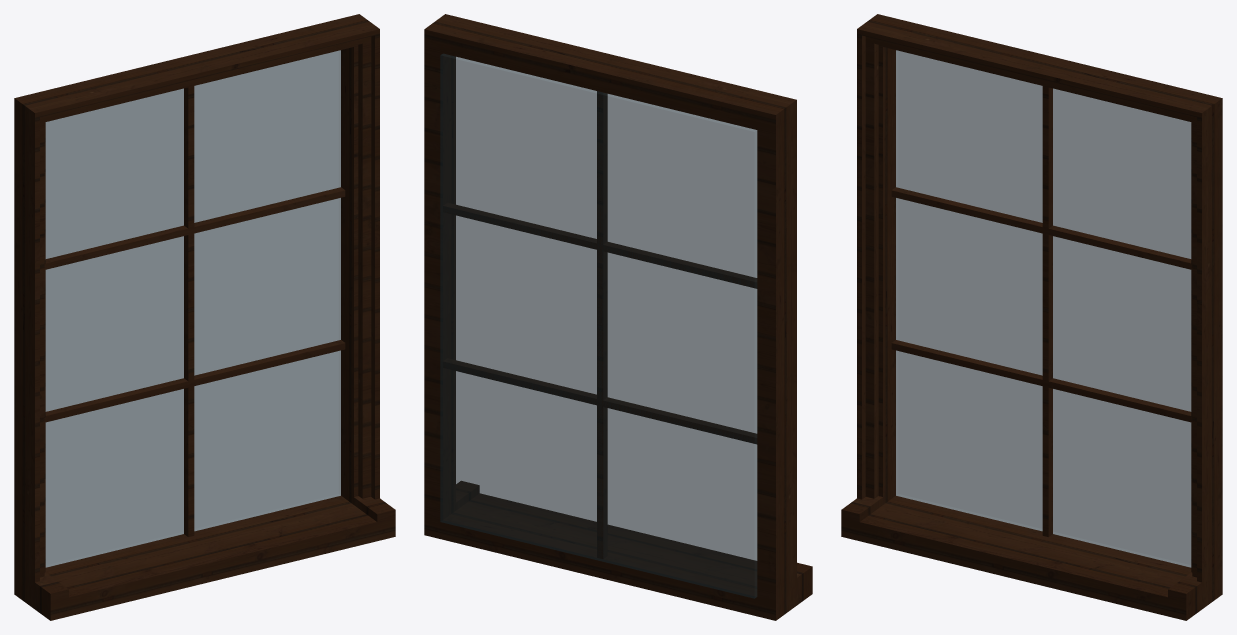
Rendered from madera_rectangle.glb.
3 views of the same model, side by side, from view 1: azimuth 30°, elevation 25°; view 2: azimuth 150°, elevation 25°; view 3: azimuth 330°, elevation 25° (orthographic).
Visible parts, largest first — view 1: window_glass#0001, window_reveal#0001, window_sill#0001, window_mullion#0001, window_profile#0020, window_profile#0001, window_profile#0010, window_profile#0009, window_profile#0017, window_profile#0019, window_profile#0018, window_profile#0011 (+6 smaller); view 2: window_glass#0001, window_reveal#0001, window_mullion#0001, window_profile#0020, window_sill#0001, window_profile#0001; view 3: window_glass#0001, window_reveal#0001, window_sill#0001, window_mullion#0001, window_profile#0020, window_profile#0001, window_profile#0010, window_profile#0009, window_profile#0017, window_profile#0019, window_profile#0018, window_profile#0011 (+6 smaller).
Part boxes in pixels (<box>): window_glass#0001: <box>45,50,340,567</box>; window_reveal#0001: <box>14,14,369,602</box>; window_sill#0001: <box>35,496,395,620</box>; window_mullion#0001: <box>45,86,345,536</box>; window_profile#0020: <box>24,21,379,609</box>; window_profile#0001: <box>44,45,354,578</box>; window_profile#0010: <box>40,38,366,577</box>; window_profile#0009: <box>42,41,364,576</box>; window_profile#0017: <box>38,34,376,581</box>; window_profile#0019: <box>36,30,378,581</box>; window_profile#0018: <box>37,32,377,581</box>; window_profile#0011: <box>40,37,368,577</box>; window_glass#0001: <box>440,53,757,598</box>; window_reveal#0001: <box>424,21,786,620</box>; window_mullion#0001: <box>443,91,757,558</box>; window_profile#0020: <box>435,14,796,612</box>; window_sill#0001: <box>451,481,812,615</box>; window_profile#0001: <box>453,56,756,586</box>; window_glass#0001: <box>896,50,1191,567</box>; window_reveal#0001: <box>866,14,1222,602</box>; window_sill#0001: <box>841,496,1201,620</box>; window_mullion#0001: <box>891,86,1191,536</box>; window_profile#0020: <box>857,21,1212,609</box>; window_profile#0001: <box>882,45,1192,576</box>; window_profile#0010: <box>870,38,1196,577</box>; window_profile#0009: <box>872,41,1194,576</box>; window_profile#0017: <box>860,34,1198,581</box>; window_profile#0019: <box>858,30,1200,581</box>; window_profile#0018: <box>859,32,1199,581</box>; window_profile#0011: <box>868,37,1196,577</box>.
Size of the model in its own units: 1.6 by 2.2 by 0.31.
Materials: 2 (1 with a texture image).
